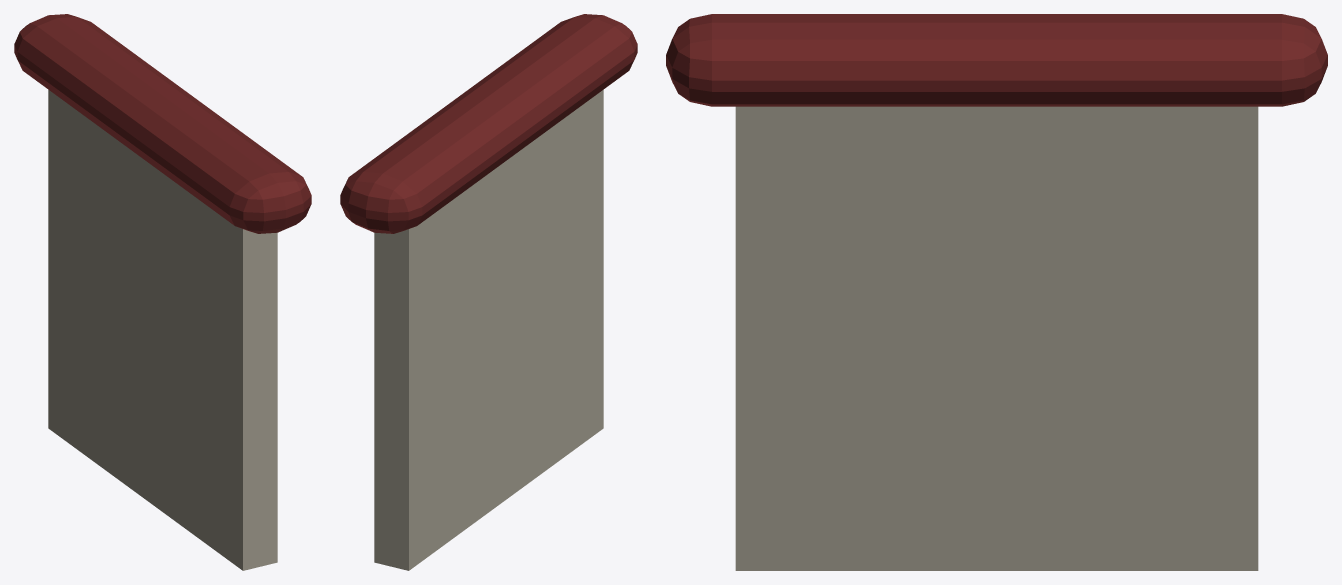
The model's file is roof_1x1.fbx.
3 views of the same model, side by side, from view 1: azimuth 30°, elevation 25°; view 2: azimuth 150°, elevation 25°; view 3: azimuth 270°, elevation 25° (orthographic). The views are drawn at different scales.
Parts seen in each view (by area): view 1: wall_1x1; view 2: wall_1x1; view 3: wall_1x1.
Part boxes in pixels (x1=…): wall_1x1: x1=14, y1=14, x2=311, y2=570; wall_1x1: x1=340, y1=14, x2=637, y2=570; wall_1x1: x1=666, y1=14, x2=1327, y2=570.
Size of the model in its own units: 23.35 by 113 by 126.
